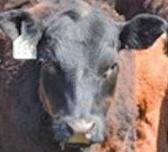muzzles: (53, 116, 104, 150)
